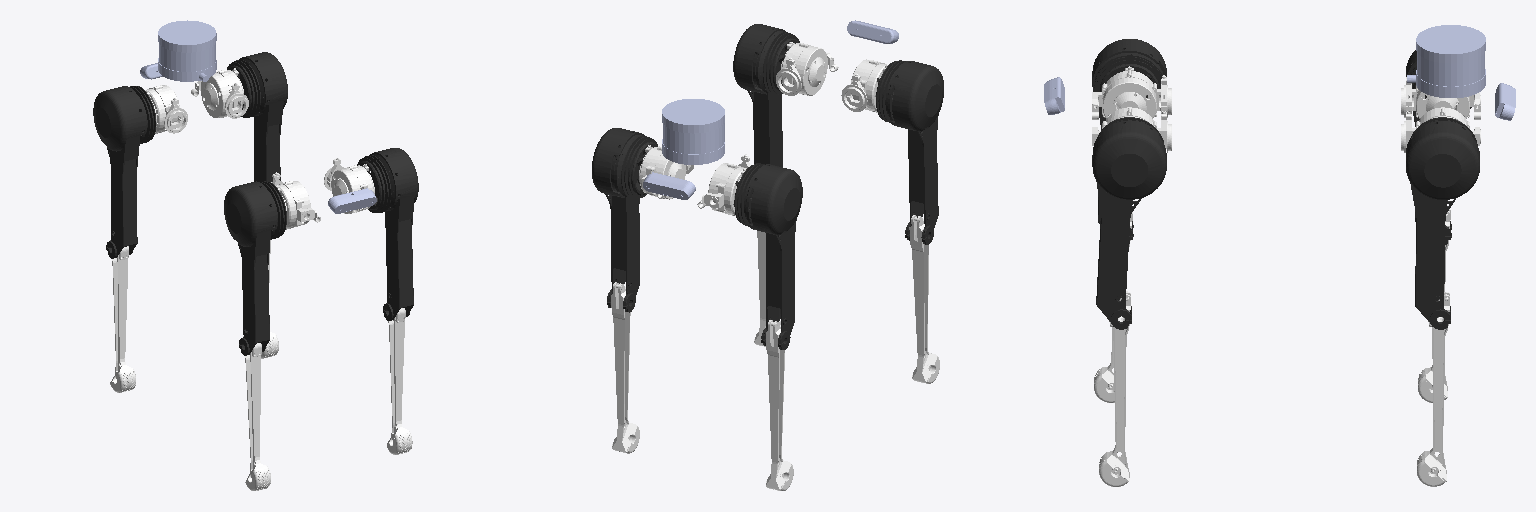
The robot description file, URDF, robot "mini":
<?xml version="1.0" encoding="utf-8"?>
<!-- This URDF was automatically created by SolidWorks to URDF Exporter! Originally created by [author] ([email redacted]) 
     Commit Version: 1.5.1-0-g916b5db  Build Version: 1.5.7152.31018
     For more information, please see http://wiki.ros.org/sw_urdf_exporter -->
<robot
  name="mini">
  <link
    name="body">
    <inertial>
      <origin
        xyz="0.000245440255894021 -0.26690950846453 -0.119018694634333"
        rpy="0 0 0" />
      <mass
        value="1.84058687159975" />
      <inertia
        ixx="0.0745416996110355"
        ixy="0.000148661882664406"
        ixz="1.88535341290636E-05"
        iyy="0.0142146049224298"
        iyz="0.000140555794754809"
        izz="0.0755493806951746" />
    </inertial>
    <visual>
      <origin
        xyz="0 0 0"
        rpy="0 0 0" />
      <geometry>
        <mesh
          filename="package://mini/meshes/body.STL" />
      </geometry>
      <material
        name="">
        <color
          rgba="1 1 1 1" />
      </material>
    </visual>
    <collision>
      <origin
        xyz="0 0 0"
        rpy="0 0 0" />
      <geometry>
        <mesh
          filename="package://mini/meshes/body.STL" />
      </geometry>
    </collision>
  </link>
  <link
    name="LF">
    <inertial>
      <origin
        xyz="0.0501797505978839 -0.00117714841636699 -0.00101274607086331"
        rpy="0 0 0" />
      <mass
        value="0.0848927357980997" />
      <inertia
        ixx="5.74845888913753E-05"
        ixy="-3.26354780273533E-06"
        ixz="7.14333133904963E-07"
        iyy="0.0001013648956261"
        iyz="8.40365965620821E-07"
        izz="0.000118406896361467" />
    </inertial>
    <visual>
      <origin
        xyz="0 0 0"
        rpy="0 0 0" />
      <geometry>
        <mesh
          filename="package://mini/meshes/LF.STL" />
      </geometry>
      <material
        name="">
        <color
          rgba="1 1 1 1" />
      </material>
    </visual>
    <collision>
      <origin
        xyz="0 0 0"
        rpy="0 0 0" />
      <geometry>
        <mesh
          filename="package://mini/meshes/LF.STL" />
      </geometry>
    </collision>
  </link>
  <joint
    name="LF_Joint"
    type="revolute">
    <origin
      xyz="-0.0619999997813264 -0.0670000002339657 -0.129699999983671"
      rpy="-1.5707963267949 0 1.57079633005868" />
    <parent
      link="body" />
    <child
      link="LF" />
    <axis
      xyz="1 0 0" />
    <limit
      lower="0"
      upper="0"
      effort="0"
      velocity="0" />
  </joint>
  <link
    name="LF_1">
    <inertial>
      <origin
        xyz="-0.00454268776611239 0.0356868315480052 0.0462116917048522"
        rpy="0 0 0" />
      <mass
        value="0.254274593126043" />
      <inertia
        ixx="0.00171033616198927"
        ixy="0.000114548554163662"
        ixz="1.57834810918413E-06"
        iyy="0.000356452736244077"
        iyz="-1.21809361527448E-05"
        izz="0.00177134098650171" />
    </inertial>
    <visual>
      <origin
        xyz="0 0 0"
        rpy="0 0 0" />
      <geometry>
        <mesh
          filename="package://mini/meshes/LF_1.STL" />
      </geometry>
      <material
        name="">
        <color
          rgba="0.250980392156863 0.250980392156863 0.250980392156863 1" />
      </material>
    </visual>
    <collision>
      <origin
        xyz="0 0 0"
        rpy="0 0 0" />
      <geometry>
        <mesh
          filename="package://mini/meshes/LF_1.STL" />
      </geometry>
    </collision>
  </link>
  <joint
    name="LF_Joint_1"
    type="revolute">
    <origin
      xyz="0.055 0 0.0369999999999973"
      rpy="0 0 0" />
    <parent
      link="LF" />
    <child
      link="LF_1" />
    <axis
      xyz="0 0 1" />
    <limit
      lower="0"
      upper="0"
      effort="0"
      velocity="0" />
  </joint>
  <link
    name="LF_2">
    <inertial>
      <origin
        xyz="-0.00791119514784239 0.155371104176032 -0.0185125947760823"
        rpy="0 0 0" />
      <mass
        value="0.0821021793793291" />
      <inertia
        ixx="0.00101039886412487"
        ixy="4.79164938059237E-05"
        ixz="-2.26551882075619E-09"
        iyy="1.4593471616848E-05"
        iyz="1.11680724458971E-07"
        izz="0.00101698105673901" />
    </inertial>
    <visual>
      <origin
        xyz="0 0 0"
        rpy="0 0 0" />
      <geometry>
        <mesh
          filename="package://mini/meshes/LF_2.STL" />
      </geometry>
      <material
        name="">
        <color
          rgba="1 1 1 1" />
      </material>
    </visual>
    <collision>
      <origin
        xyz="0 0 0"
        rpy="0 0 0" />
      <geometry>
        <mesh
          filename="package://mini/meshes/LF_2.STL" />
      </geometry>
    </collision>
  </link>
  <joint
    name="LF_Joint_2"
    type="revolute">
    <origin
      xyz="-0.00284717615831659 0.249983786652555 0.0659999999907074"
      rpy="0 0 0" />
    <parent
      link="LF_1" />
    <child
      link="LF_2" />
    <axis
      xyz="0 0 1" />
    <limit
      lower="0"
      upper="0"
      effort="0"
      velocity="0" />
  </joint>
  <link
    name="LB">
    <inertial>
      <origin
        xyz="-0.0501797531184657 -0.00117714574142191 -0.00101275926123656"
        rpy="0 0 0" />
      <mass
        value="0.0848928229213895" />
      <inertia
        ixx="5.74846138998654E-05"
        ixy="3.26354164295674E-06"
        ixz="-7.14334685545111E-07"
        iyy="0.000101364933311542"
        iyz="8.40365622492163E-07"
        izz="0.000118406933977841" />
    </inertial>
    <visual>
      <origin
        xyz="0 0 0"
        rpy="0 0 0" />
      <geometry>
        <mesh
          filename="package://mini/meshes/LB.STL" />
      </geometry>
      <material
        name="">
        <color
          rgba="1 1 1 1" />
      </material>
    </visual>
    <collision>
      <origin
        xyz="0 0 0"
        rpy="0 0 0" />
      <geometry>
        <mesh
          filename="package://mini/meshes/LB.STL" />
      </geometry>
    </collision>
  </link>
  <joint
    name="LB_Joint"
    type="revolute">
    <origin
      xyz="-0.0619999986324702 -0.419000000233966 -0.129699999897879"
      rpy="-1.5707963267949 0 1.57079633005868" />
    <parent
      link="body" />
    <child
      link="LB" />
    <axis
      xyz="1 0 0" />
    <limit
      lower="0"
      upper="0"
      effort="0"
      velocity="0" />
  </joint>
  <link
    name="LB_1">
    <inertial>
      <origin
        xyz="-0.0056088186033082 0.0355348305242741 0.0462116950281868"
        rpy="0 0 0" />
      <mass
        value="0.254274504205363" />
      <inertia
        ixx="0.00170226762302061"
        ixy="0.00015484937981588"
        ixz="1.94225212328637E-06"
        iyy="0.000364519918862472"
        iyz="-1.21283043073719E-05"
        izz="0.00177133963348735" />
    </inertial>
    <visual>
      <origin
        xyz="0 0 0"
        rpy="0 0 0" />
      <geometry>
        <mesh
          filename="package://mini/meshes/LB_1.STL" />
      </geometry>
      <material
        name="">
        <color
          rgba="0.250980392156863 0.250980392156863 0.250980392156863 1" />
      </material>
    </visual>
    <collision>
      <origin
        xyz="0 0 0"
        rpy="0 0 0" />
      <geometry>
        <mesh
          filename="package://mini/meshes/LB_1.STL" />
      </geometry>
    </collision>
  </link>
  <joint
    name="LB_Joint_1"
    type="revolute">
    <origin
      xyz="-0.0550000000000016 0 0.037"
      rpy="0 0 0" />
    <parent
      link="LB" />
    <child
      link="LB_1" />
    <axis
      xyz="0 0 1" />
    <limit
      lower="0"
      upper="0"
      effort="0"
      velocity="0" />
  </joint>
  <link
    name="LB_2">
    <inertial>
      <origin
        xyz="-0.01291813699497 0.155035129786747 -0.0185125939520661"
        rpy="0 0 0" />
      <mass
        value="0.0821021858706785" />
      <inertia
        ixx="0.00100627386659396"
        ixy="7.99170020567905E-05"
        ixz="-5.864592490093E-09"
        iyy="1.87185267024882E-05"
        iyz="1.1154642349817E-07"
        izz="0.00101698111179844" />
    </inertial>
    <visual>
      <origin
        xyz="0 0 0"
        rpy="0 0 0" />
      <geometry>
        <mesh
          filename="package://mini/meshes/LB_2.STL" />
      </geometry>
      <material
        name="">
        <color
          rgba="1 1 1 1" />
      </material>
    </visual>
    <collision>
      <origin
        xyz="0 0 0"
        rpy="0 0 0" />
      <geometry>
        <mesh
          filename="package://mini/meshes/LB_2.STL" />
      </geometry>
    </collision>
  </link>
  <joint
    name="LB_Joint_2"
    type="revolute">
    <origin
      xyz="-0.0103284822954822 0.24978655379728 0.06599999996629"
      rpy="0 0 0" />
    <parent
      link="LB_1" />
    <child
      link="LB_2" />
    <axis
      xyz="0 0 1" />
    <limit
      lower="0"
      upper="0"
      effort="0"
      velocity="0" />
  </joint>
  <link
    name="RF">
    <inertial>
      <origin
        xyz="0.0501797538865763 -0.00118185349852255 0.00100726133774833"
        rpy="0 0 0" />
      <mass
        value="0.0848928210166398" />
      <inertia
        ixx="5.74846137695991E-05"
        ixy="-3.26017620735351E-06"
        ixz="-7.2953919050443E-07"
        iyy="0.000101373135436778"
        iyz="-9.19764539896138E-07"
        izz="0.000118398727095263" />
    </inertial>
    <visual>
      <origin
        xyz="0 0 0"
        rpy="0 0 0" />
      <geometry>
        <mesh
          filename="package://mini/meshes/RF.STL" />
      </geometry>
      <material
        name="">
        <color
          rgba="1 1 1 1" />
      </material>
    </visual>
    <collision>
      <origin
        xyz="0 0 0"
        rpy="0 0 0" />
      <geometry>
        <mesh
          filename="package://mini/meshes/RF.STL" />
      </geometry>
    </collision>
  </link>
  <joint
    name="RF_Joint"
    type="revolute">
    <origin
      xyz="0.062 -0.067 -0.1297"
      rpy="-1.5708 0 1.5708" />
    <parent
      link="body" />
    <child
      link="RF" />
    <axis
      xyz="1 0 0" />
    <limit
      lower="0"
      upper="0"
      effort="0"
      velocity="0" />
  </joint>
  <link
    name="RF_1">
    <inertial>
      <origin
        xyz="-0.00458432071406256 0.0361665598779678 -0.0465249028793709"
        rpy="0 0 0" />
      <mass
        value="0.254869917041049" />
      <inertia
        ixx="0.00170414629635864"
        ixy="0.000118123686872183"
        ixz="-2.09865571019765E-07"
        iyy="0.000353649344011661"
        iyz="3.12027441252963E-06"
        izz="0.00176809632277789" />
    </inertial>
    <visual>
      <origin
        xyz="0 0 0"
        rpy="0 0 0" />
      <geometry>
        <mesh
          filename="package://mini/meshes/RF_1.STL" />
      </geometry>
      <material
        name="">
        <color
          rgba="0.250980392156863 0.250980392156863 0.250980392156863 1" />
      </material>
    </visual>
    <collision>
      <origin
        xyz="0 0 0"
        rpy="0 0 0" />
      <geometry>
        <mesh
          filename="package://mini/meshes/RF_1.STL" />
      </geometry>
    </collision>
  </link>
  <joint
    name="RF_Joint_1"
    type="revolute">
    <origin
      xyz="0.055 0.00017246 -0.037"
      rpy="0 0 0" />
    <parent
      link="RF" />
    <child
      link="RF_1" />
    <axis
      xyz="0 0 1" />
    <limit
      lower="0"
      upper="0"
      effort="0"
      velocity="0" />
  </joint>
  <link
    name="RF_2">
    <inertial>
      <origin
        xyz="-0.00837193817002385 0.155346959509884 0.0184874037320066"
        rpy="0 0 0" />
      <mass
        value="0.0821021795597598" />
      <inertia
        ixx="0.0010101059082602"
        ixy="5.08688459114004E-05"
        ixz="-2.59605536121194E-09"
        iyy="1.48864269461338E-05"
        iyz="1.11664906639562E-07"
        izz="0.00101698106065422" />
    </inertial>
    <visual>
      <origin
        xyz="0 0 0"
        rpy="0 0 0" />
      <geometry>
        <mesh
          filename="package://mini/meshes/RF_2.STL" />
      </geometry>
      <material
        name="">
        <color
          rgba="1 1 1 1" />
      </material>
    </visual>
    <collision>
      <origin
        xyz="0 0 0"
        rpy="0 0 0" />
      <geometry>
        <mesh
          filename="package://mini/meshes/RF_2.STL" />
      </geometry>
    </collision>
  </link>
  <joint
    name="RF_Joint_2"
    type="revolute">
    <origin
      xyz="-0.0035844 0.25028 -0.064834"
      rpy="0.0046612 0 0" />
    <parent
      link="RF_1" />
    <child
      link="RF_2" />
    <axis
      xyz="0 0 1" />
    <limit
      lower="0"
      upper="0"
      effort="0"
      velocity="0" />
  </joint>
  <link
    name="RB">
    <inertial>
      <origin
        xyz="-0.050179750597884 -0.00117714841636701 0.00101274607086329"
        rpy="0 0 0" />
      <mass
        value="0.0848927357981" />
      <inertia
        ixx="5.74845888913754E-05"
        ixy="3.26354780273531E-06"
        ixz="7.1433313390485E-07"
        iyy="0.0001013648956261"
        iyz="-8.40365965620812E-07"
        izz="0.000118406896361468" />
    </inertial>
    <visual>
      <origin
        xyz="0 0 0"
        rpy="0 0 0" />
      <geometry>
        <mesh
          filename="package://mini/meshes/RB.STL" />
      </geometry>
      <material
        name="">
        <color
          rgba="1 1 1 1" />
      </material>
    </visual>
    <collision>
      <origin
        xyz="0 0 0"
        rpy="0 0 0" />
      <geometry>
        <mesh
          filename="package://mini/meshes/RB.STL" />
      </geometry>
    </collision>
  </link>
  <joint
    name="RB_Joint"
    type="revolute">
    <origin
      xyz="0.062 -0.419 -0.1297"
      rpy="-1.5708 0 1.5708" />
    <parent
      link="body" />
    <child
      link="RB" />
    <axis
      xyz="1 0 0" />
    <limit
      lower="0"
      upper="0"
      effort="0"
      velocity="0" />
  </joint>
  <link
    name="RB_1">
    <inertial>
      <origin
        xyz="-0.00580444812856595 0.0357725246263385 -0.0491929707801751"
        rpy="0 0 0" />
      <mass
        value="0.254869812968442" />
      <inertia
        ixx="0.00169455137955729"
        ixy="0.000163755581509164"
        ixz="-1.09037765719604E-06"
        iyy="0.000363302525061901"
        iyz="9.68146134861953E-06"
        izz="0.00176803496348713" />
    </inertial>
    <visual>
      <origin
        xyz="0 0 0"
        rpy="0 0 0" />
      <geometry>
        <mesh
          filename="package://mini/meshes/RB_1.STL" />
      </geometry>
      <material
        name="">
        <color
          rgba="0.250980392156863 0.250980392156863 0.250980392156863 1" />
      </material>
    </visual>
    <collision>
      <origin
        xyz="0 0 0"
        rpy="0 0 0" />
      <geometry>
        <mesh
          filename="package://mini/meshes/RB_1.STL" />
      </geometry>
    </collision>
  </link>
  <joint
    name="RB_Joint_1"
    type="revolute">
    <origin
      xyz="-0.055 0 -0.0345"
      rpy="0 0 0" />
    <parent
      link="RB" />
    <child
      link="RB_1" />
    <axis
      xyz="0 0 1" />
    <limit
      lower="0"
      upper="0"
      effort="0"
      velocity="0" />
  </joint>
  <link
    name="RB_2">
    <inertial>
      <origin
        xyz="-0.00702662858027892 0.155413621022406 0.0184874049559236"
        rpy="0 0 0" />
      <mass
        value="0.0821021804602638" />
      <inertia
        ixx="0.00101091211199855"
        ixy="4.22449310017215E-05"
        ixz="-1.63024498375539E-09"
        iyy="1.40802264704191E-05"
        iyz="1.11692993138164E-07"
        izz="0.00101698105964998" />
    </inertial>
    <visual>
      <origin
        xyz="0 0 0"
        rpy="0 0 0" />
      <geometry>
        <mesh
          filename="package://mini/meshes/RB_2.STL" />
      </geometry>
      <material
        name="">
        <color
          rgba="1 1 1 1" />
      </material>
    </visual>
    <collision>
      <origin
        xyz="0 0 0"
        rpy="0 0 0" />
      <geometry>
        <mesh
          filename="package://mini/meshes/RB_2.STL" />
      </geometry>
    </collision>
  </link>
  <joint
    name="RB_Joint_2"
    type="revolute">
    <origin
      xyz="-0.0120851358149442 0.249707728128166 -0.0685000000394434"
      rpy="0 0 0" />
    <parent
      link="RB_1" />
    <child
      link="RB_2" />
    <axis
      xyz="0 0 1" />
    <limit
      lower="0"
      upper="0"
      effort="0"
      velocity="0" />
  </joint>
  <link
    name="Lidar">
    <inertial>
      <origin
        xyz="3.31640316434539E-06 0.0357452861533647 0.000168293826702581"
        rpy="0 0 0" />
      <mass
        value="0.590032077795476" />
      <inertia
        ixx="0.000647464608320236"
        ixy="6.45580533550386E-08"
        ixz="2.89532307924072E-10"
        iyy="0.000774943193326064"
        iyz="2.80453300263633E-06"
        izz="0.000641326417350481" />
    </inertial>
    <visual>
      <origin
        xyz="0 0 0"
        rpy="0 0 0" />
      <geometry>
        <mesh
          filename="package://mini/meshes/Lidar.STL" />
      </geometry>
      <material
        name="">
        <color
          rgba="0.792156862745098 0.819607843137255 0.933333333333333 1" />
      </material>
    </visual>
    <collision>
      <origin
        xyz="0 0 0"
        rpy="0 0 0" />
      <geometry>
        <mesh
          filename="package://mini/meshes/Lidar.STL" />
      </geometry>
    </collision>
  </link>
  <joint
    name="Lidar_Joint"
    type="fixed">
    <origin
      xyz="0 0 -0.0717"
      rpy="1.5708 0 0" />
    <parent
      link="body" />
    <child
      link="Lidar" />
    <axis
      xyz="0 0 0" />
  </joint>
  <link
    name="RealSence_F">
    <inertial>
      <origin
        xyz="-0.0220687308289624 0.0467473259367573 0.378467842281016"
        rpy="0 0 0" />
      <mass
        value="0.0483821864790052" />
      <inertia
        ixx="4.59957024125321E-06"
        ixy="1.59319006516822E-07"
        ixz="4.42312645141517E-07"
        iyy="2.9922649412762E-05"
        iyz="-4.11068005512863E-08"
        izz="2.98432126115266E-05" />
    </inertial>
    <visual>
      <origin
        xyz="0 0 0"
        rpy="0 0 0" />
      <geometry>
        <mesh
          filename="package://mini/meshes/RealSence_F.STL" />
      </geometry>
      <material
        name="">
        <color
          rgba="0.792156862745098 0.819607843137255 0.933333333333333 1" />
      </material>
    </visual>
    <collision>
      <origin
        xyz="0 0 0"
        rpy="0 0 0" />
      <geometry>
        <mesh
          filename="package://mini/meshes/RealSence_F.STL" />
      </geometry>
    </collision>
  </link>
  <joint
    name="RealSence_F_Joint"
    type="fixed">
    <origin
      xyz="0.020939 0.45806 -0.14839"
      rpy="1.5708 0 0" />
    <parent
      link="body" />
    <child
      link="RealSence_F" />
    <axis
      xyz="0 0 0" />
  </joint>
  <link
    name="RealSence_B">
    <inertial>
      <origin
        xyz="-0.0220687307886732 0.0467473259498581 0.378467842288961"
        rpy="0 0 0" />
      <mass
        value="0.0483821865502262" />
      <inertia
        ixx="4.5995702475578E-06"
        ixy="1.59318993530729E-07"
        ixz="4.42312632076694E-07"
        iyy="2.99226494684879E-05"
        iyz="-4.11068099558978E-08"
        izz="2.98432126753058E-05" />
    </inertial>
    <visual>
      <origin
        xyz="0 0 0"
        rpy="0 0 0" />
      <geometry>
        <mesh
          filename="package://mini/meshes/RealSence_B.STL" />
      </geometry>
      <material
        name="">
        <color
          rgba="0.792156862745098 0.819607843137255 0.933333333333333 1" />
      </material>
    </visual>
    <collision>
      <origin
        xyz="0 0 0"
        rpy="0 0 0" />
      <geometry>
        <mesh
          filename="package://mini/meshes/RealSence_B.STL" />
      </geometry>
    </collision>
  </link>
  <joint
    name="RealSence_B_Joint"
    type="fixed">
    <origin
      xyz="0.0209390044790954 -0.904272317630113 -0.30007590343112"
      rpy="-0.872664626240902 0 0" />
    <parent
      link="body" />
    <child
      link="RealSence_B" />
    <axis
      xyz="0 0 0" />
  </joint>
</robot>

--- What the picture shows (computed from the rendered views, not written in the file) ---
The picture shows the robot from 3 angles, left to right: view 1: azimuth 30°, elevation 25°; view 2: azimuth 150°, elevation 25°; view 3: azimuth 270°, elevation 25°; orthographic projection.
Robot: mini — 16 links, 15 joints (12 revolute, 3 fixed); root link body; default pose: all joints at 0.
Links seen in each view (by area): view 1: LB_1, LF_1, RB_1, RF_1, Lidar, LB_2, RB_2, LF_2, RF, LF, LB, RB (+1 smaller); view 2: LF_1, LB_1, RF_1, RB_1, Lidar, LF_2, RF_2, LB_2, RB, LB, LF, RF (+3 smaller); view 3: RB_1, RF_1, Lidar, LB, LB_1, RF_2, RB_2, LF, RF, RB, LB_2, RealSence_B (+2 smaller).
Link boxes in pixels (box(x1,y1,x2,y2)): LB_1: box(224, 181, 286, 355); LF_1: box(93, 86, 155, 258); RB_1: box(357, 148, 418, 320); RF_1: box(227, 52, 287, 181); Lidar: box(158, 20, 216, 81); LB_2: box(243, 336, 270, 490); RB_2: box(387, 308, 412, 454); LF_2: box(110, 240, 135, 392); RF: box(191, 68, 248, 118); LF: box(145, 85, 187, 133); LB: box(271, 172, 320, 229); RB: box(324, 158, 374, 213); LF_1: box(734, 164, 802, 349); LB_1: box(876, 60, 943, 244); RF_1: box(592, 128, 657, 312); RB_1: box(733, 24, 799, 166); Lidar: box(662, 99, 724, 164); LF_2: box(766, 320, 793, 490); RF_2: box(611, 282, 639, 453); LB_2: box(909, 215, 939, 383); RB: box(776, 42, 838, 95); LB: box(841, 59, 887, 112); LF: box(697, 154, 750, 215); RF: box(639, 145, 693, 199); RB_1: box(1092, 117, 1166, 329); RF_1: box(1406, 117, 1479, 329); Lidar: box(1407, 25, 1485, 97); LB: box(1092, 66, 1171, 119); LB_1: box(1092, 39, 1166, 243); RF_2: box(1417, 292, 1449, 486); RB_2: box(1099, 291, 1130, 486); LF: box(1401, 77, 1480, 119); RF: box(1401, 107, 1480, 152); RB: box(1092, 107, 1171, 152); LB_2: box(1094, 212, 1132, 402); RealSence_B: box(1044, 77, 1064, 114).
Bounding box of the posed robot: 0.3571 × 0.6947 × 0.6549 m (x, y, z).
15 mesh visuals loaded from 16 distinct referenced files (15 binary STL); not drawn: 1 (reference not matched to a file when rendering).